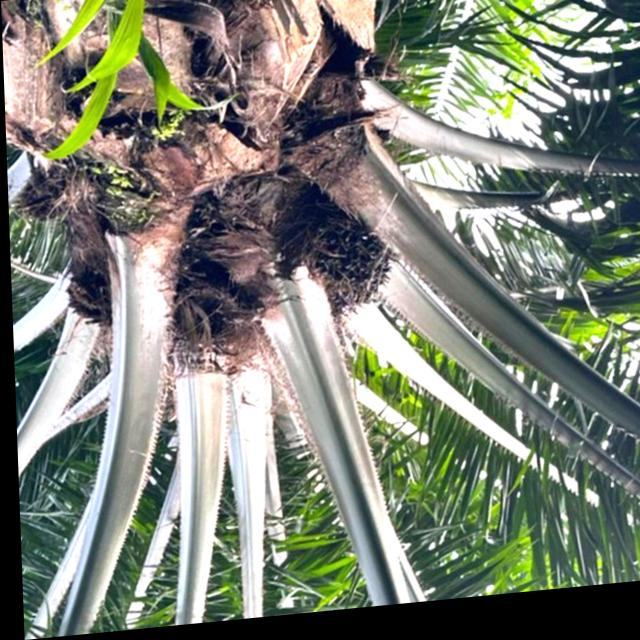unripe: (270, 187, 398, 332)
